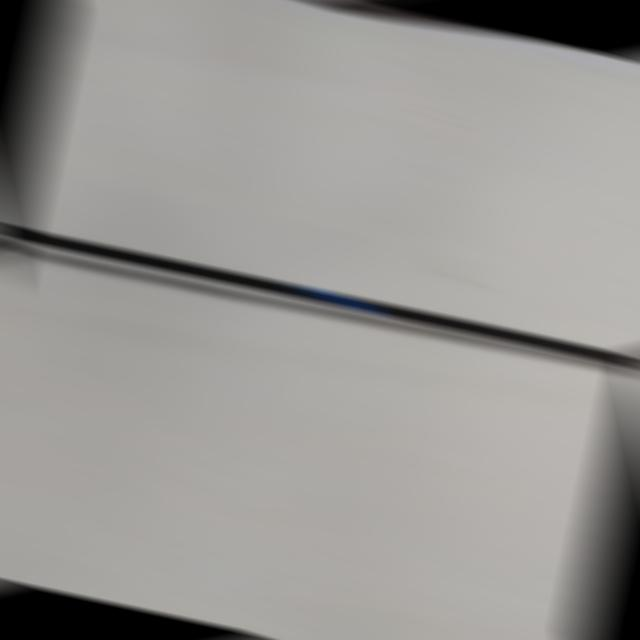blue: (306, 286, 368, 312)
